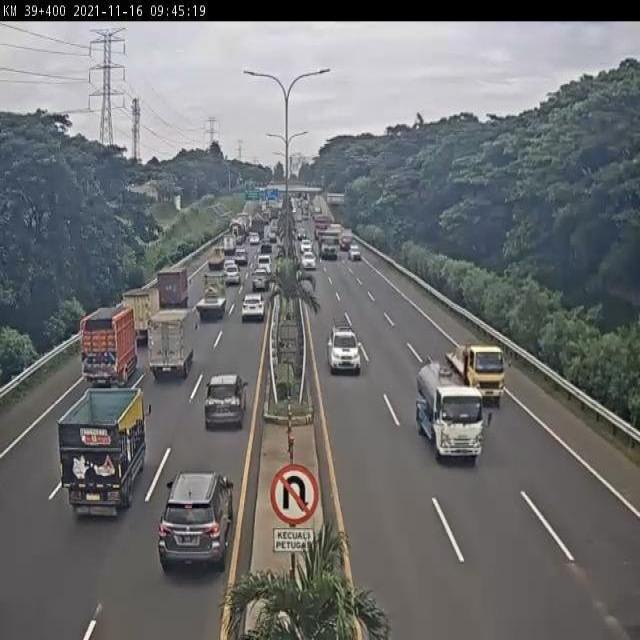car: (159, 474, 232, 566), (205, 375, 247, 428), (326, 322, 362, 374), (239, 296, 265, 327), (250, 272, 270, 297), (229, 248, 248, 271), (220, 265, 237, 287)
small bus: (254, 259, 273, 280)
small truck: (418, 360, 484, 460), (447, 345, 508, 408), (145, 307, 197, 377), (123, 288, 163, 341), (206, 247, 226, 270)
truck-m-: (59, 392, 144, 515), (80, 306, 137, 386), (158, 265, 189, 312), (196, 276, 225, 324)
